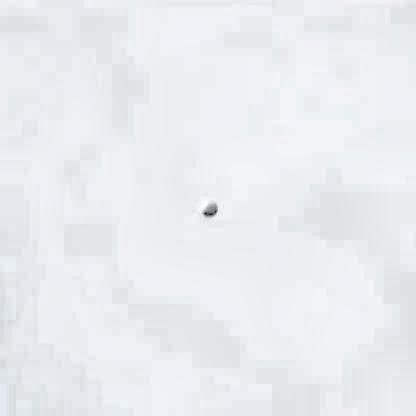golfball: (198, 195, 216, 214)
